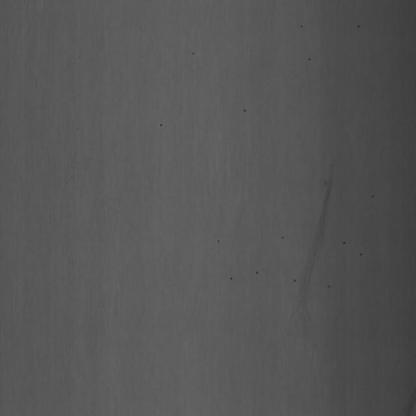inclusion: (341, 235, 362, 262), (252, 264, 263, 280)
water_spot: (291, 167, 338, 312)
